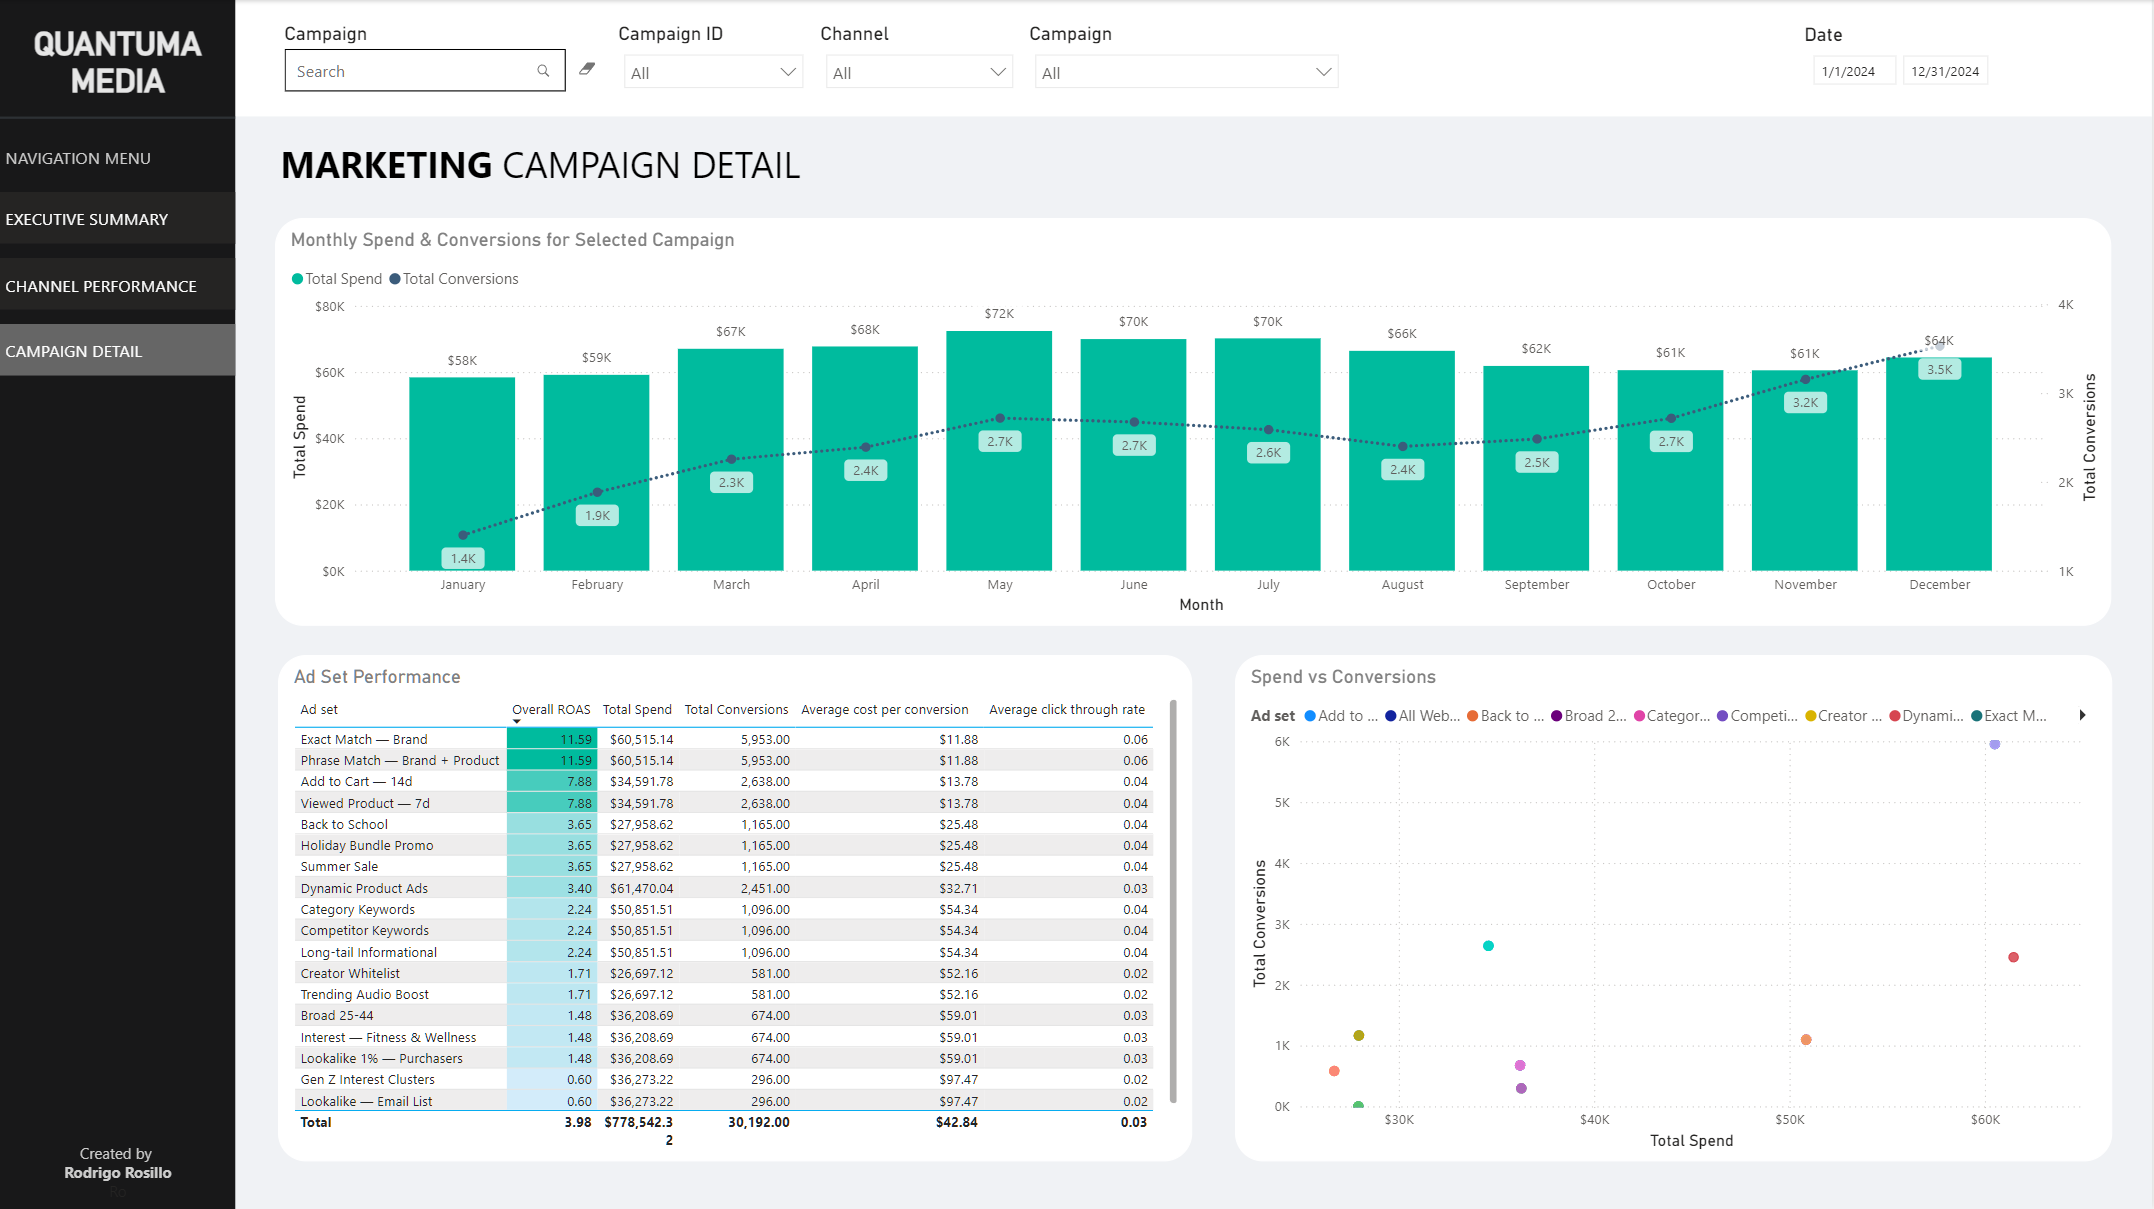

Layout of this report page (visuals, bound fields, positions):
{"tool":"powerbi","page":{"name":" Campaign Detail","canvas":[1920,1080],"ordinal":2},"visuals":[{"type":"shape","box":[0,0,1920.6,103.9],"z":0},{"type":"shape","box":[0,0,210.2,1080.3],"z":1000},{"type":"shape","box":[0,83.8,210.4,42.3],"z":2000},{"type":"textbox","box":[245.2,118.9,576.1,63.6],"z":3000},{"type":"tableEx","title":"Ad Set Performance","fields":{"Values":["FCT_AD_SPEND.AD_SET_NAME","FCT_AD_SPEND.Overall ROAS","FCT_AD_SPEND.Total Spend","FCT_AD_SPEND.Total Conversions","Avg(FCT_AD_SPEND.COST_PER_CONVERSION)","Avg(FCT_AD_SPEND.CLICK_THROUGH_RATE)"]},"box":[248.5,585,816.5,452.2],"z":4000},{"type":"textFilter25A4896A83E0487089E2B90C9AE57C8A","title":"Campaign","fields":{"field":["FCT_AD_SPEND.CAMPAIGN_NAME"]},"box":[248.9,19.8,299,85.6],"z":5000},{"type":"slicer","title":"Campaign ID","fields":{"Values":["FCT_AD_SPEND.CAMPAIGN_ID"]},"box":[547.5,19.8,179.9,72.5],"z":6000},{"type":"slicer","title":"Campaign","fields":{"Values":["FCT_AD_SPEND.CAMPAIGN_NAME"]},"box":[914.4,19.4,291.3,72.8],"z":7000},{"type":"slicer","title":"Channel","fields":{"Values":["FCT_AD_SPEND.CHANNEL"]},"box":[727.3,19.4,187.1,72.8],"z":8000},{"type":"textbox","box":[0,124.6,210.5,34.2],"z":9000},{"type":"shape","box":[0,171.3,210.5,46],"z":10000},{"type":"textbox","title":"(2) Pages 1 - TXT 1","box":[0,179.7,210.6,37.1],"z":11000},{"type":"shape","box":[0,230.4,210.5,46],"z":12000},{"type":"textbox","title":"(2) Pages 1 - TXT 1","box":[0,238.8,210.6,37.1],"z":13000},{"type":"shape","title":"(2) Pages 2 - Click","box":[0,171.4,211.1,46.1],"z":14000},{"type":"shape","box":[0,289.1,210.5,46],"z":15000},{"type":"textbox","title":"(2) Pages 1 - TXT 1","box":[0,297.5,210.6,37.1],"z":16000},{"type":"shape","title":"(2) Pages 2 - Click","box":[0,228.5,209.8,47.3],"z":17000},{"type":"slicer","title":"Date","fields":{"Values":["FCT_AD_SPEND.DATE"]},"box":[1605.9,20.6,314.1,105],"z":18000},{"type":"lineClusteredColumnComboChart","title":"Monthly Spend & Conversions for Selected Campaign","fields":{"Category":["FCT_AD_SPEND.DATE.Variation.Date Hierarchy.Month","FCT_AD_SPEND.DATE.Variation.Date Hierarchy.Day"],"Y":["FCT_AD_SPEND.Total Spend"],"Y2":["FCT_AD_SPEND.Total Conversions"]},"box":[245.2,194.5,1638.9,364.1],"z":19000},{"type":"scatterChart","title":"Spend vs Conversions","fields":{"X":["FCT_AD_SPEND.Total Spend"],"Y":["FCT_AD_SPEND.Total Conversions"],"Series":["FCT_AD_SPEND.AD_SET_NAME"]},"box":[1102,585,782.5,452.2],"z":20000},{"type":"textbox","box":[0,1015.5,210.5,64.5],"z":21000},{"type":"textbox","box":[0,0,210.2,105.1],"z":22000},{"type":"shape","box":[0,345.4,210.6,46.4],"z":22001},{"type":"textbox","title":"(2) Pages 1 - TXT 1","box":[0,349.9,210.6,37.5],"z":22002},{"type":"shape","title":"(2) Pages 2 - Click","box":[0,344.5,209.8,47.3],"z":22003}]}

Visuals, with their boxes in screenshot pixels (x1, y1, x2, y2), scaled from the page's 1920x1080 canvas onto the 2154x1209 screenshot:
shape: 0 0 2153 116
shape: 0 0 236 1208
shape: 0 94 236 141
textbox: 275 133 921 204
"Ad Set Performance" tableEx: 279 655 1195 1161
"Campaign" textFilter25A4896A83E0487089E2B90C9AE57C8A: 279 22 615 118
"Campaign ID" slicer: 614 22 816 103
"Campaign" slicer: 1026 22 1353 103
"Channel" slicer: 816 22 1026 103
textbox: 0 139 236 178
shape: 0 192 236 243
"(2) Pages 1 - TXT 1" textbox: 0 201 236 243
shape: 0 258 236 309
"(2) Pages 1 - TXT 1" textbox: 0 267 236 309
"(2) Pages 2 - Click" shape: 0 192 237 243
shape: 0 324 236 375
"(2) Pages 1 - TXT 1" textbox: 0 333 236 375
"(2) Pages 2 - Click" shape: 0 256 235 309
"Date" slicer: 1802 23 2153 141
"Monthly Spend & Conversions for Selected Campaign" lineClusteredColumnComboChart: 275 218 2114 625
"Spend vs Conversions" scatterChart: 1236 655 2114 1161
textbox: 0 1137 236 1208
textbox: 0 0 236 118
shape: 0 387 236 439
"(2) Pages 1 - TXT 1" textbox: 0 392 236 434
"(2) Pages 2 - Click" shape: 0 386 235 439
